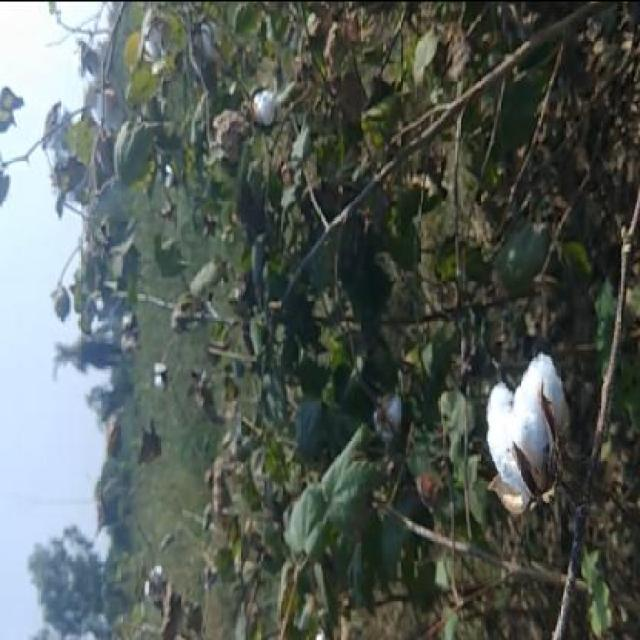cotton_ready: (472, 319, 605, 626)
